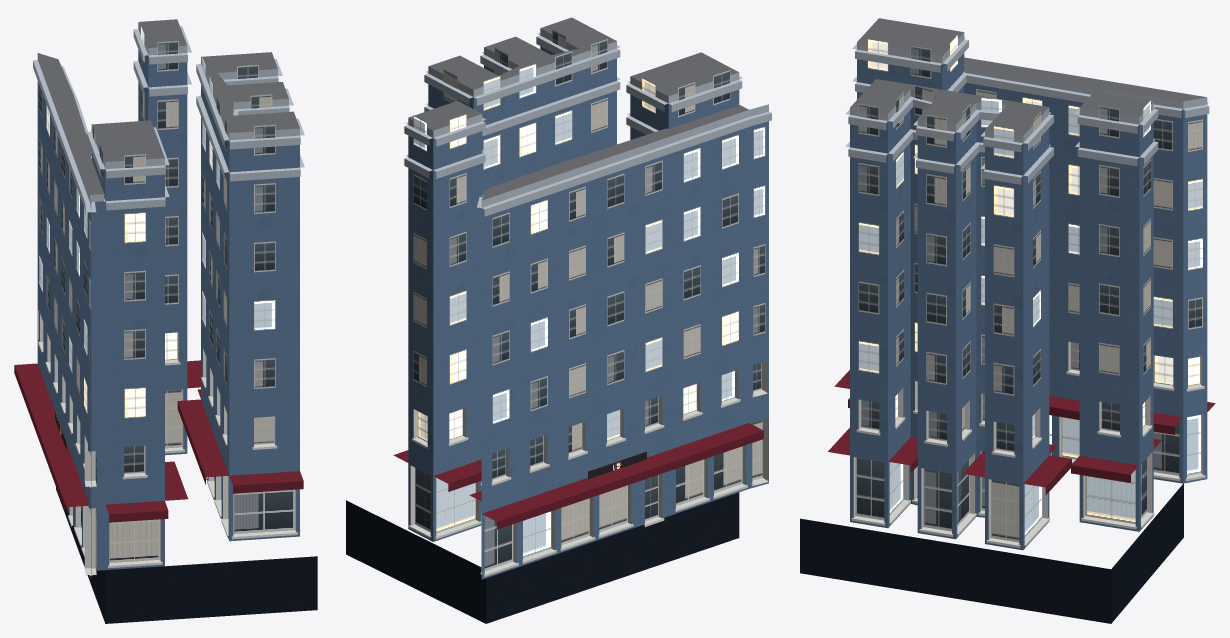
File: langB_fattony.glb
The picture shows the model from 3 angles, left to right: view 1: azimuth 30°, elevation 25°; view 2: azimuth 150°, elevation 25°; view 3: azimuth 270°, elevation 25°; orthographic projection.
Visible parts, largest first — view 1: langB_fattony; view 2: langB_fattony; view 3: langB_fattony.
Boxes of the visible parts, left/top/right/bottom form: langB_fattony: left=14, top=19, right=317, bottom=623; langB_fattony: left=346, top=17, right=771, bottom=623; langB_fattony: left=800, top=18, right=1215, bottom=623.
Bounding box in the file's own units: 17.94 × 26.06 × 20.68.
3 materials, 3 textured.
